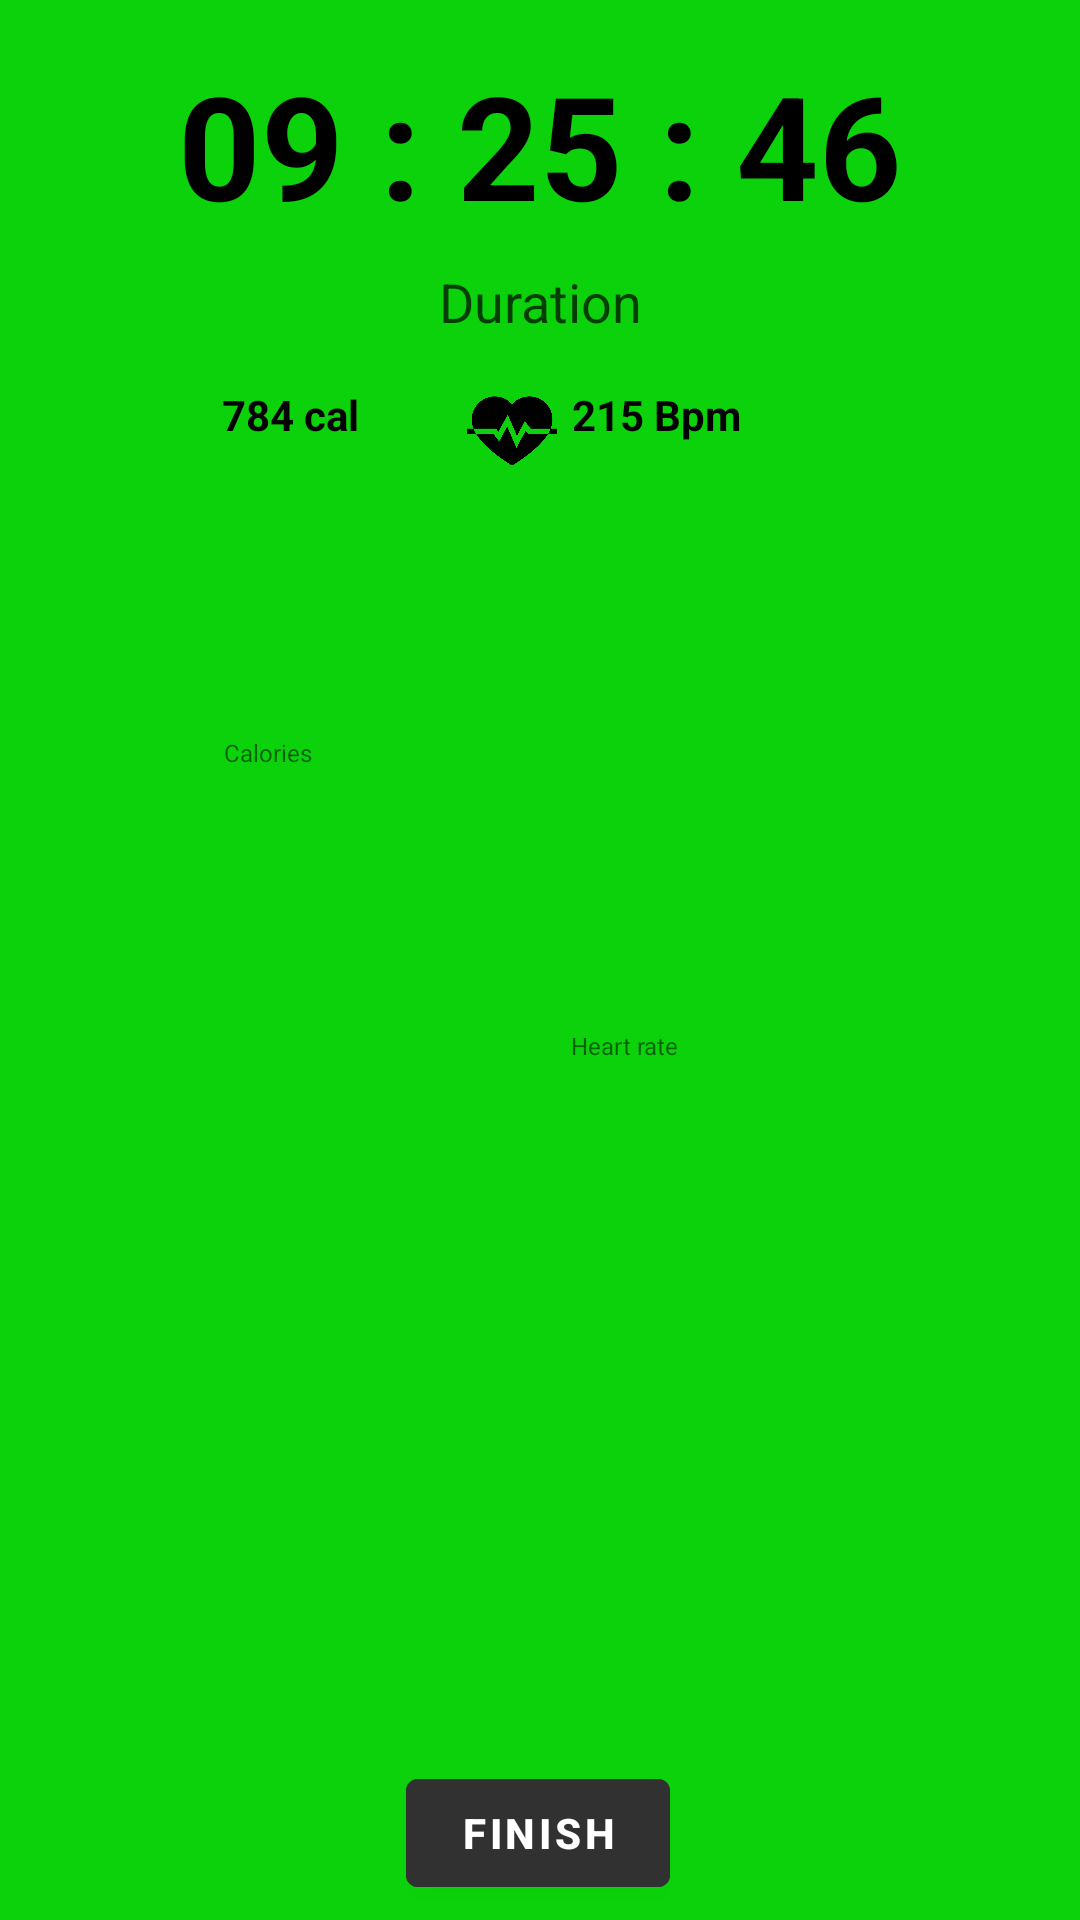

Locate icon controls on the screen. Image size 1080w x 1920h, boxes as (x1, y1, x2, y2).
heart: (467, 396, 557, 465)
